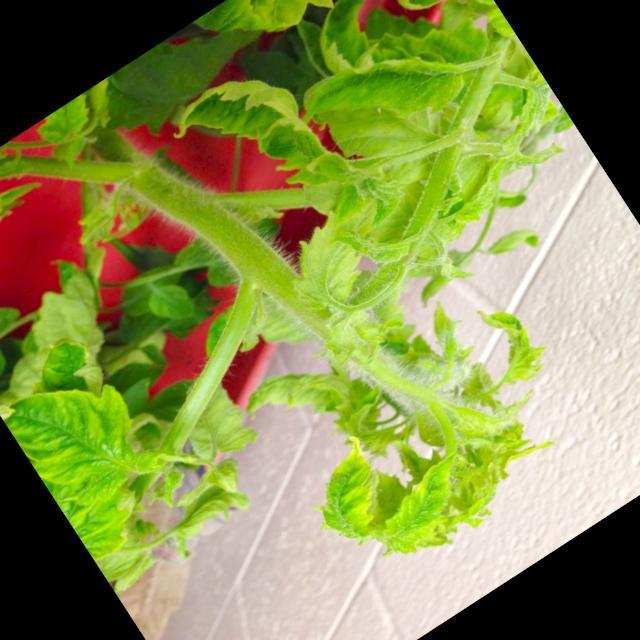Tomato yellow virus leaf: (0, 341, 183, 533), (300, 15, 472, 172), (284, 423, 418, 557), (360, 440, 492, 568), (272, 209, 388, 328)
